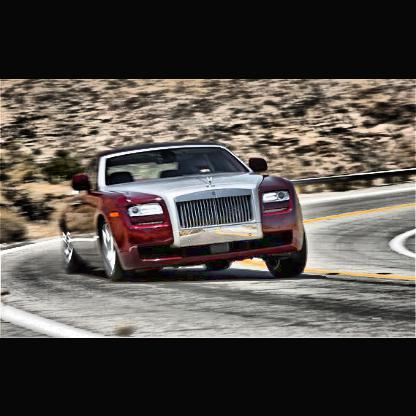Rolls-Royce Ghost Sedan 2012: (53, 144, 317, 290)
